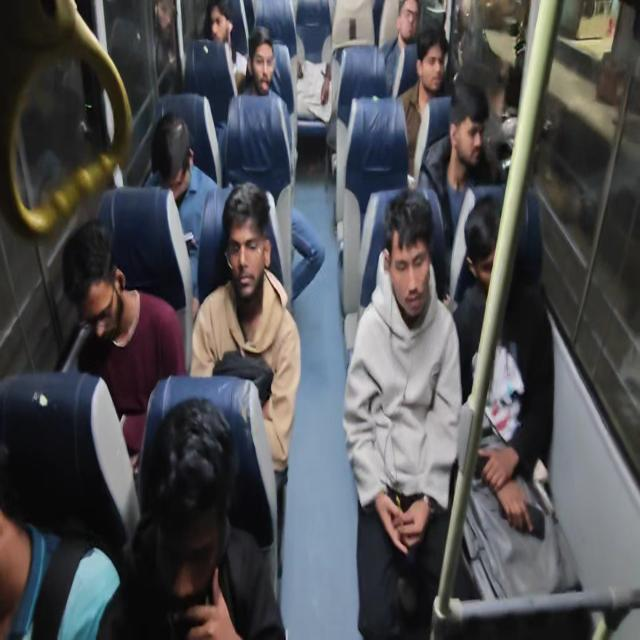person: (139, 390, 242, 618), (54, 228, 135, 350), (376, 192, 440, 334), (219, 188, 273, 314), (464, 192, 518, 308), (146, 105, 193, 204), (441, 81, 488, 178), (418, 22, 450, 110), (247, 27, 282, 94), (206, 0, 235, 56), (398, 0, 428, 53)
